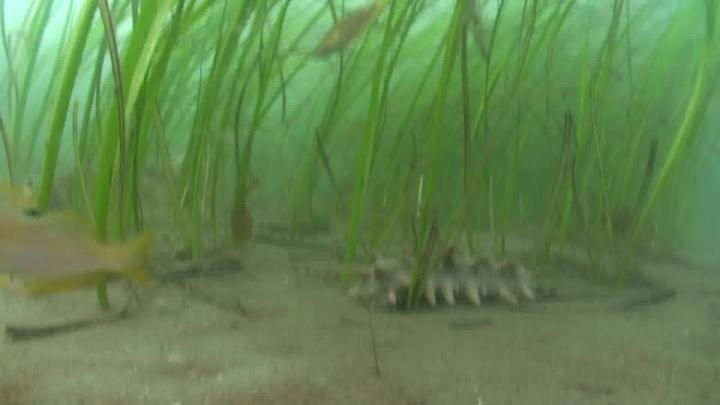holothurian: (358, 250, 549, 304)
